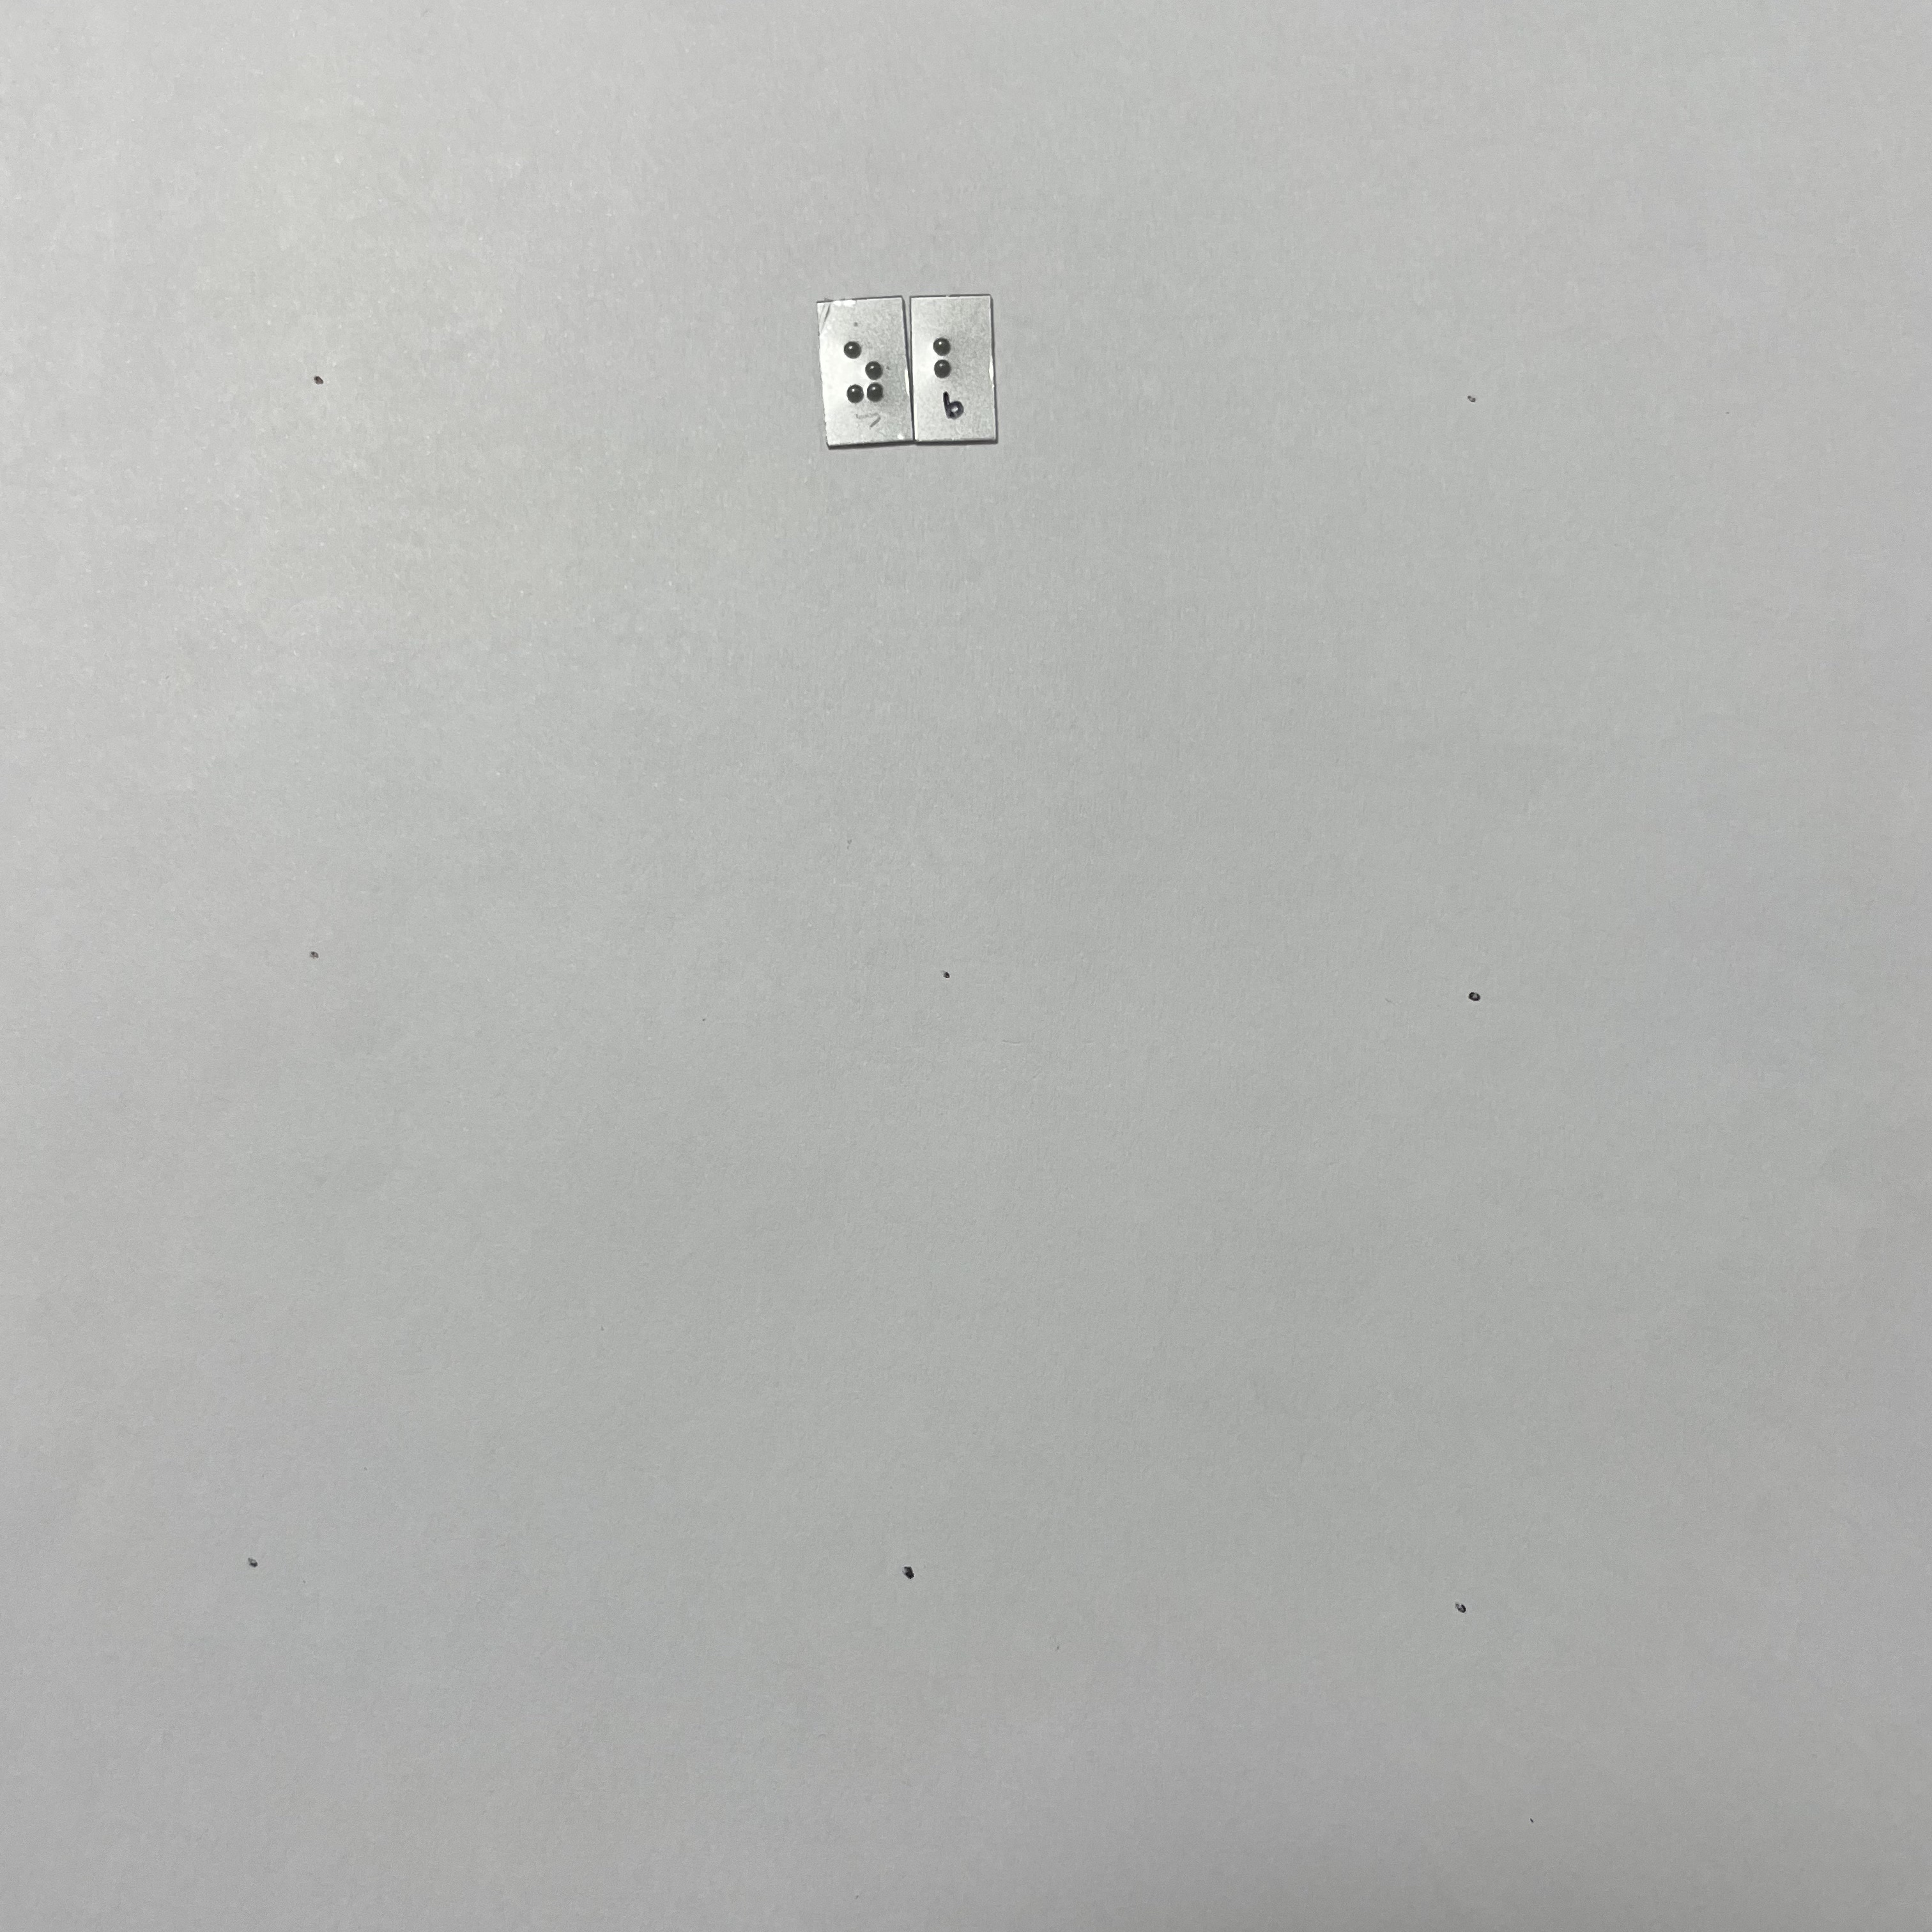b: (928, 330, 974, 403)
z: (838, 330, 891, 412)
